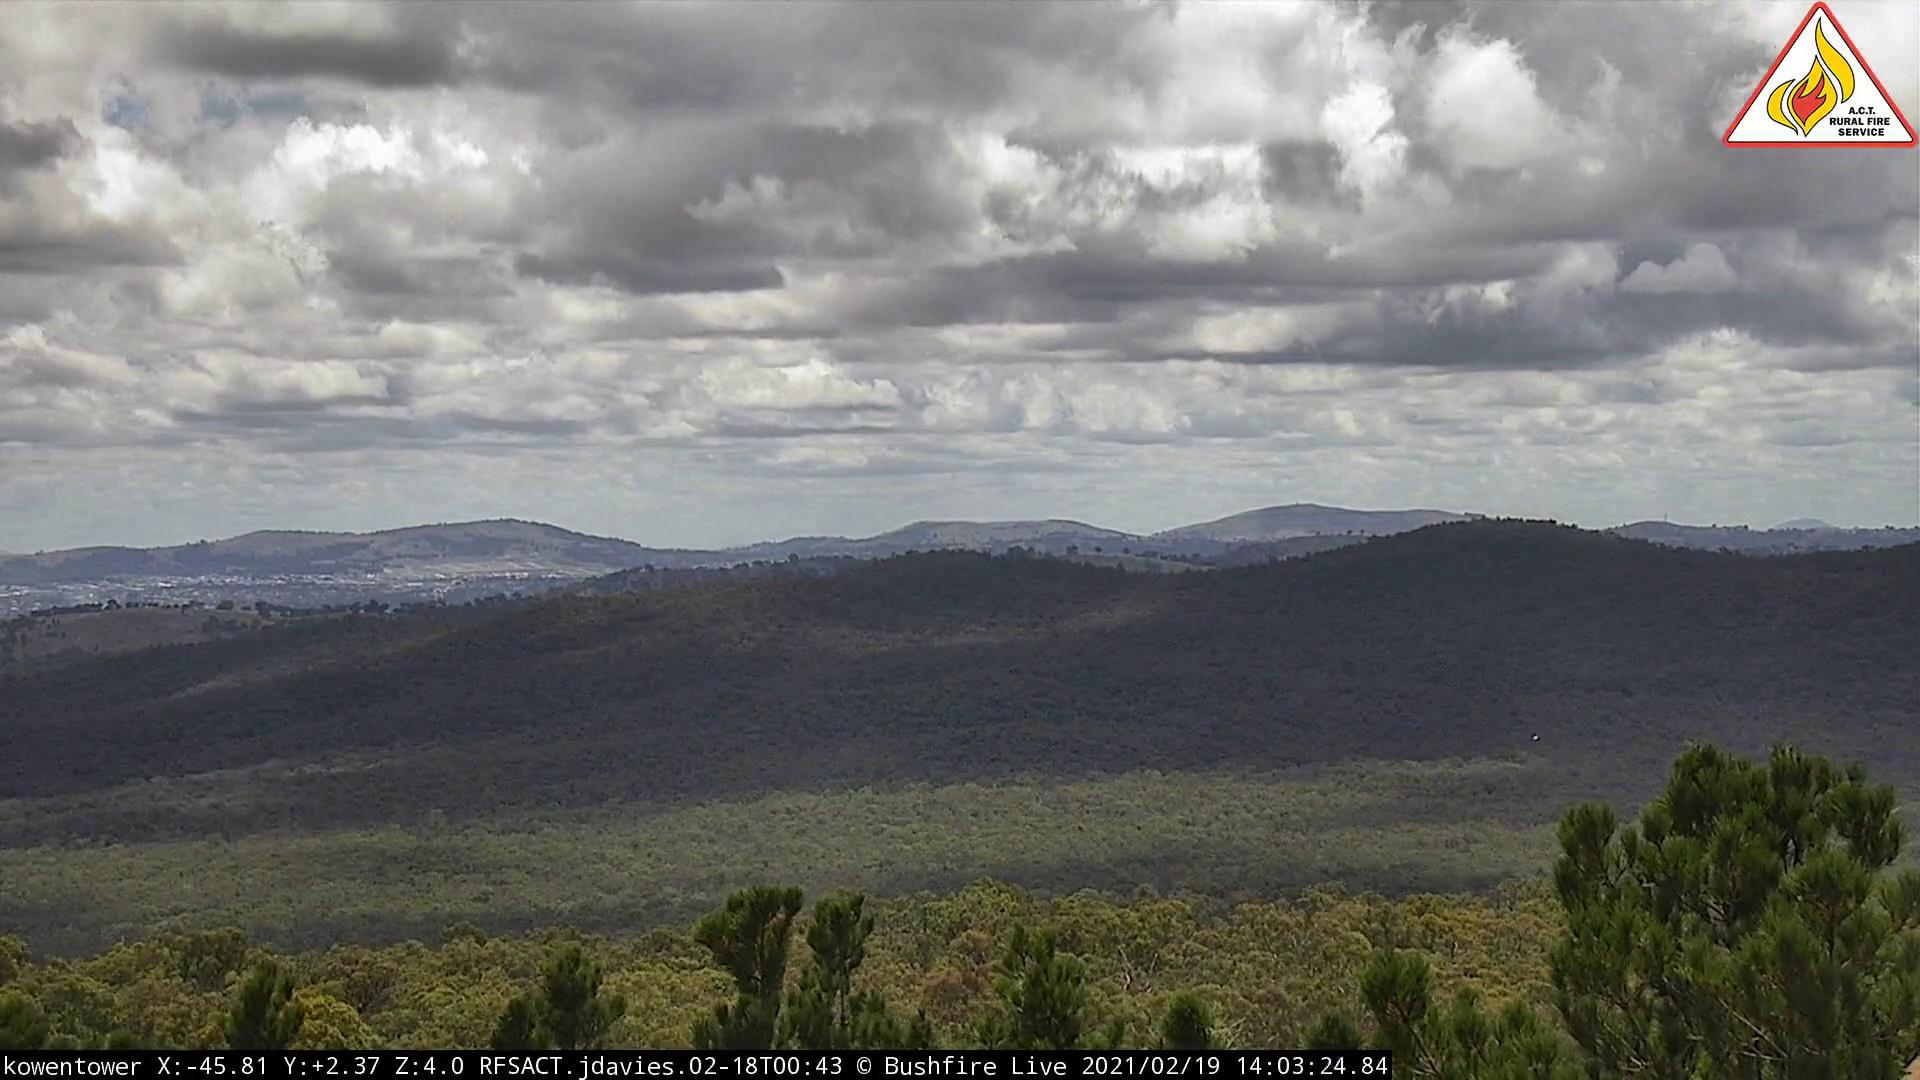instance_salient_object: (94, 583, 136, 622)
